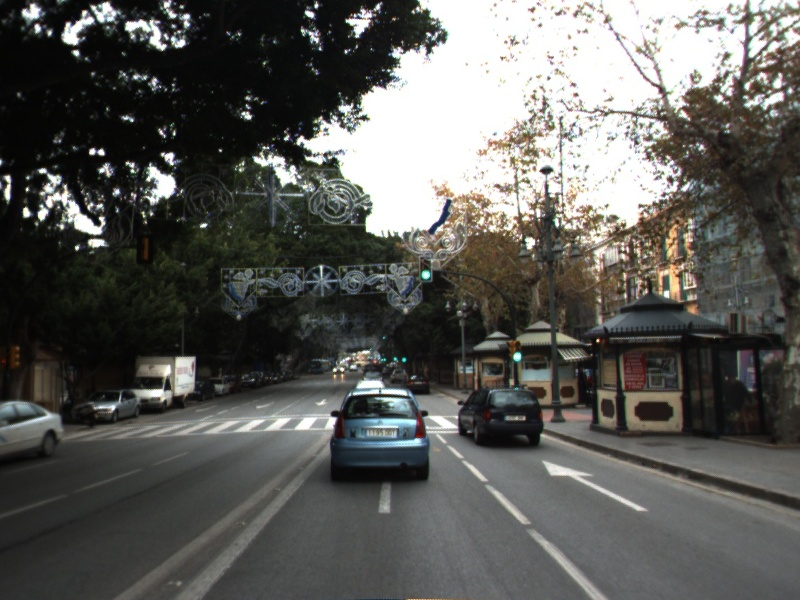STRAIGHT: (539, 458, 651, 513)
